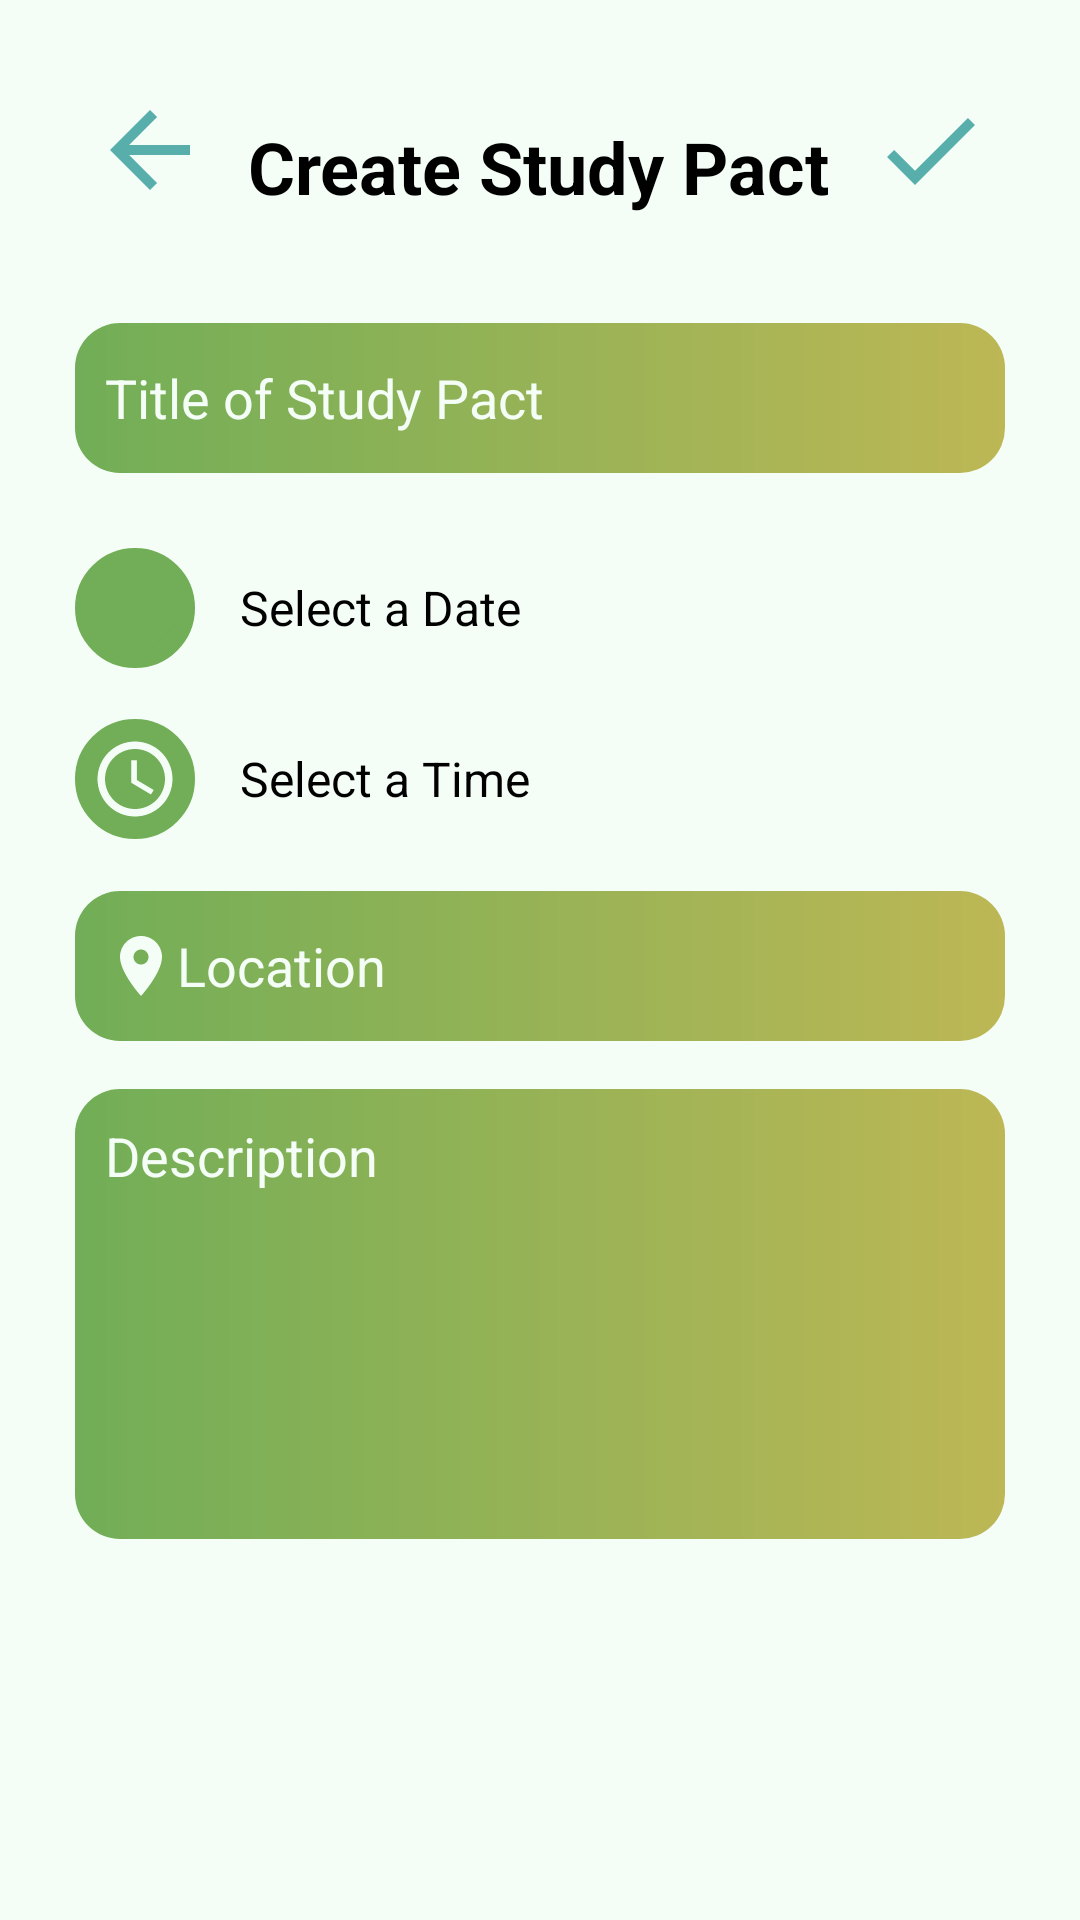

Named icons in this screenshot (1080×1920) and their centers, [x,y]:
check: [931,151]
return arrow: [150,150]
